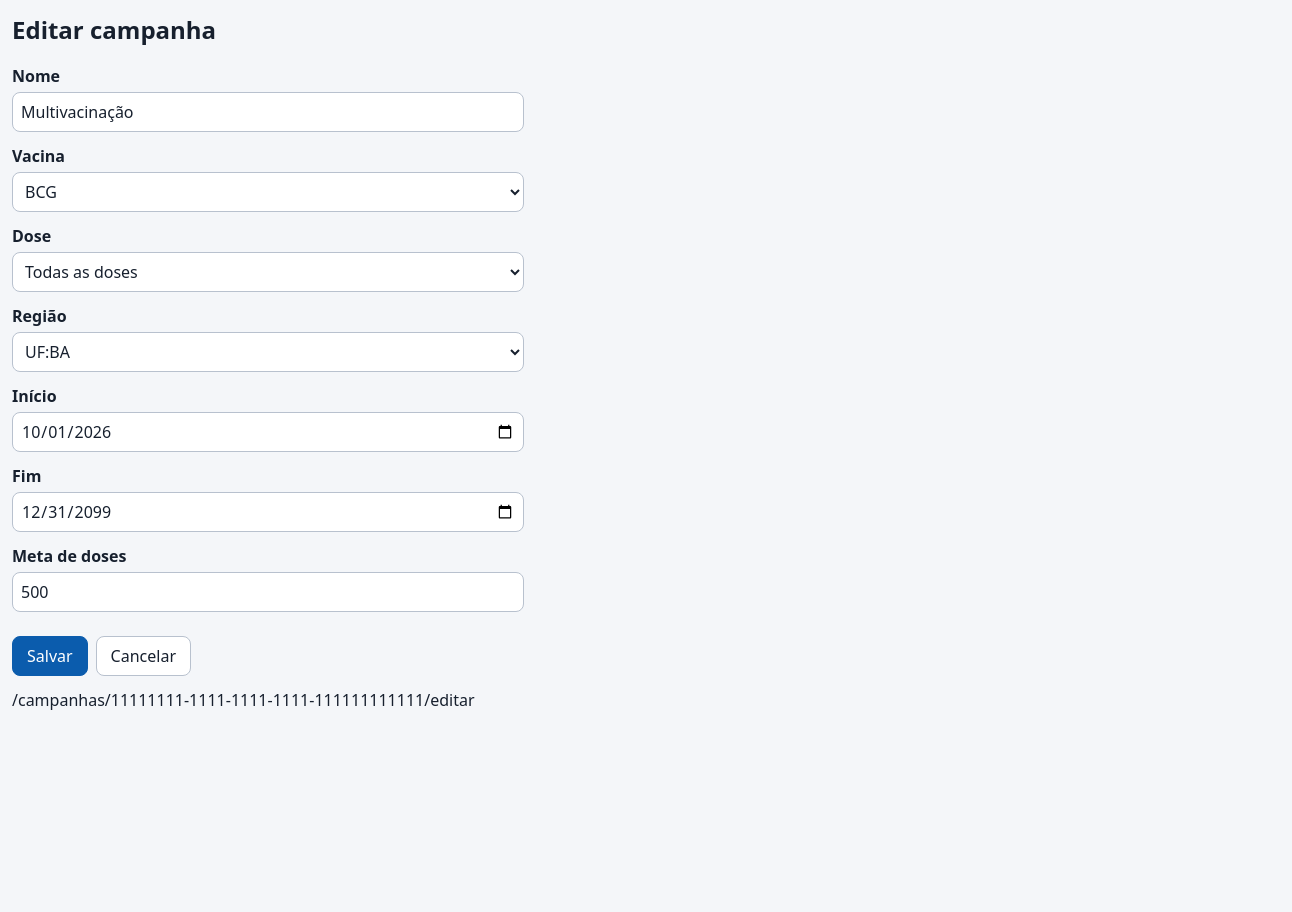
Test: fresh versions › the Recarregar button after a 412 resets the form to the fresh version
In the field labelled "Nome": (268, 112) [12,92,524,132], type " 2"
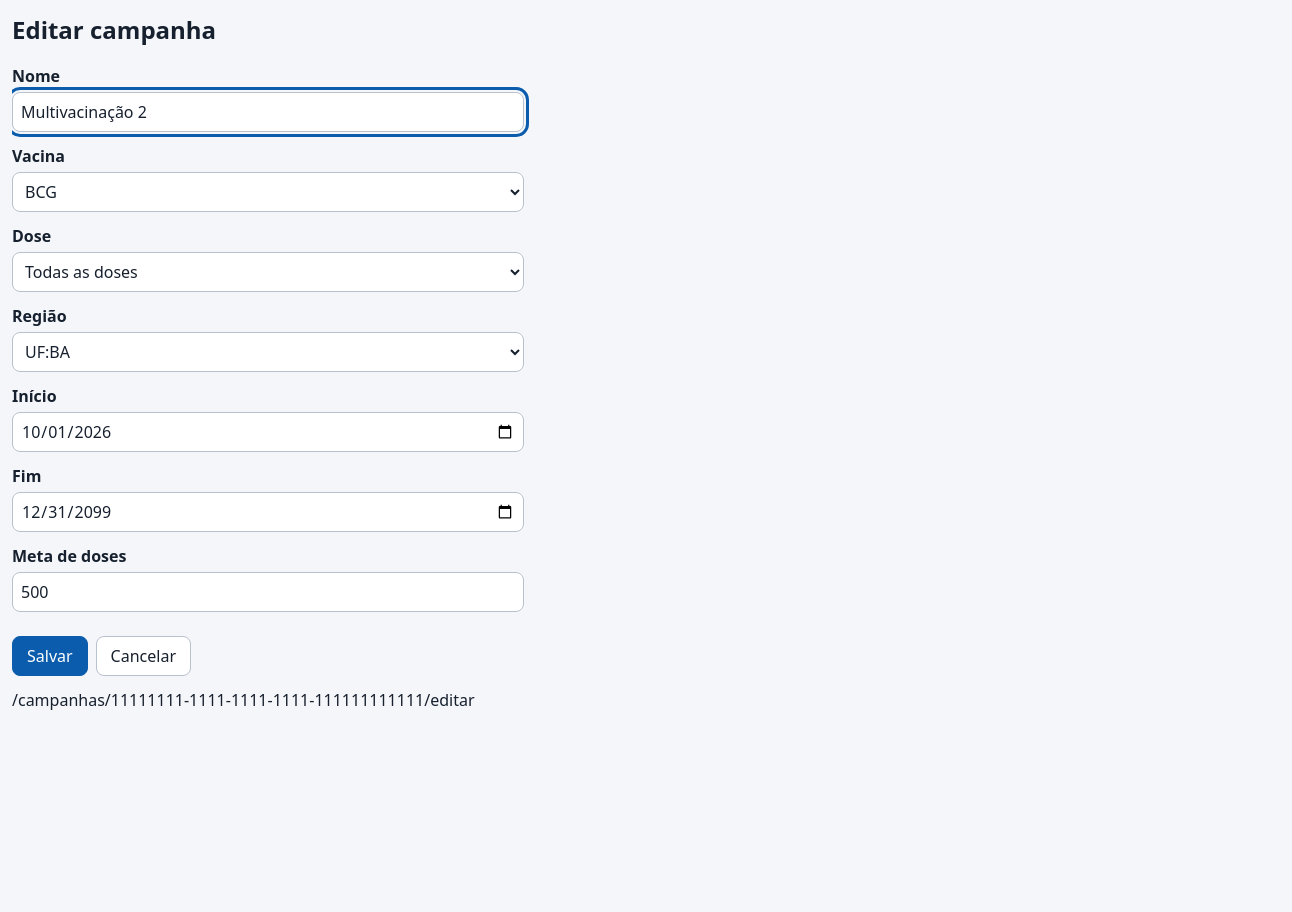
Click the button "Salvar": (50, 656) [12,636,88,676]
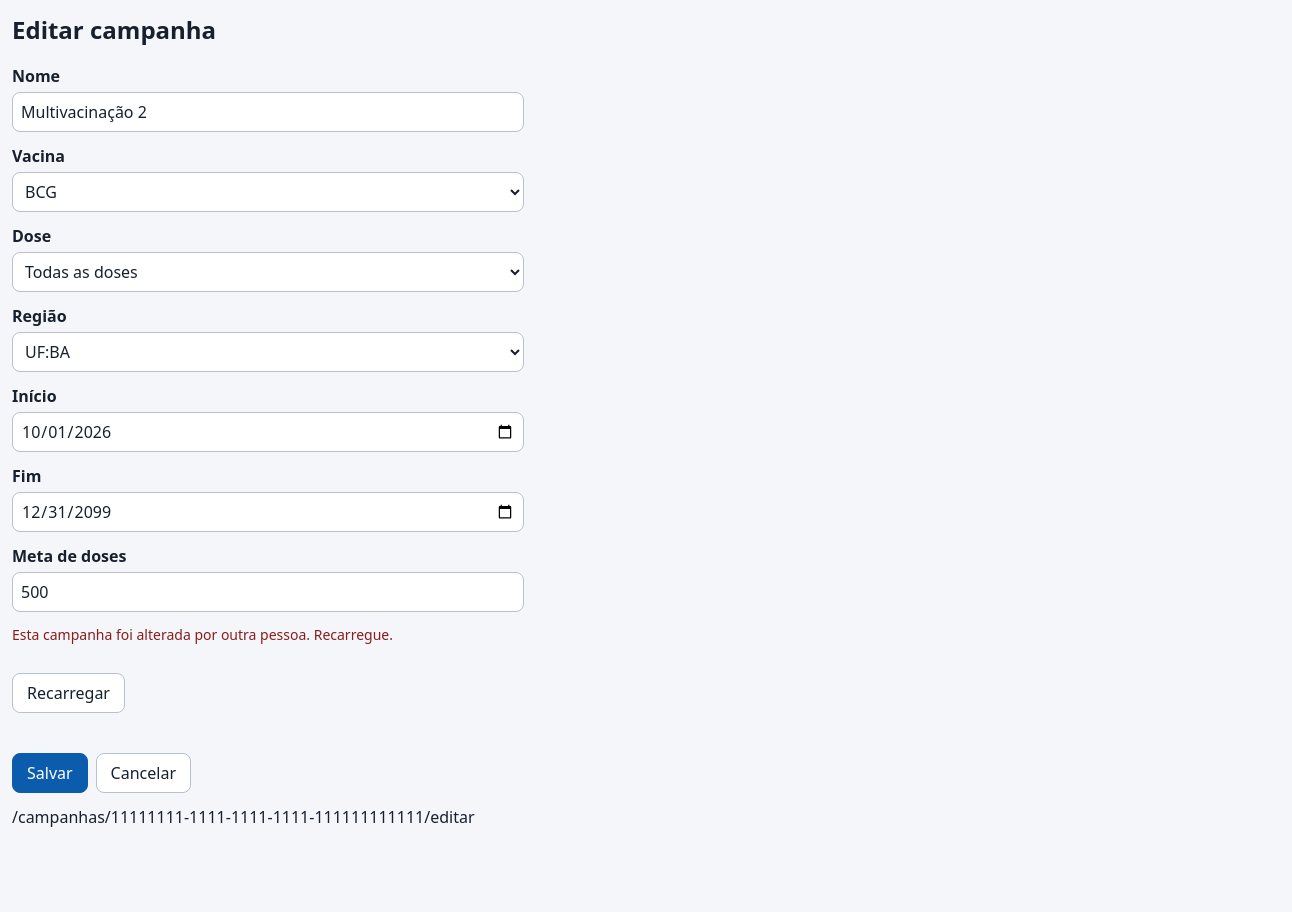
Expected: the message reads "Esta campanha foi alterada por outra pessoa. Recarregue.", [12,625,393,644]
Click the button "Recarregar": (68, 693) [12,673,125,713]
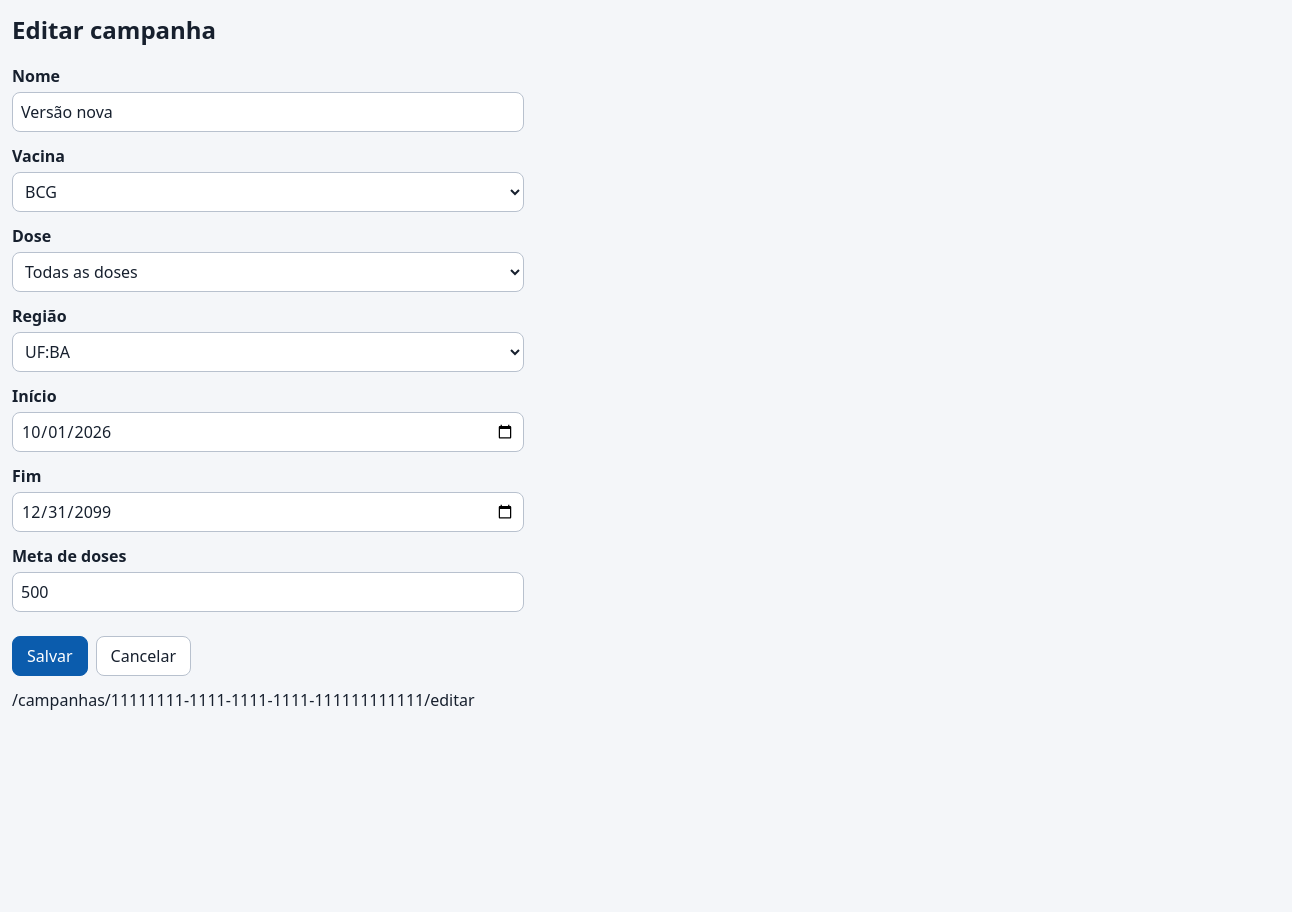
Expected: the field showing "Versão nova" is shown, [12,92,524,132]
Expected: the message "Esta campanha foi alterada por outra pessoa. Recarregue." is gone
Click the button "Salvar": (50, 656) [12,636,88,676]
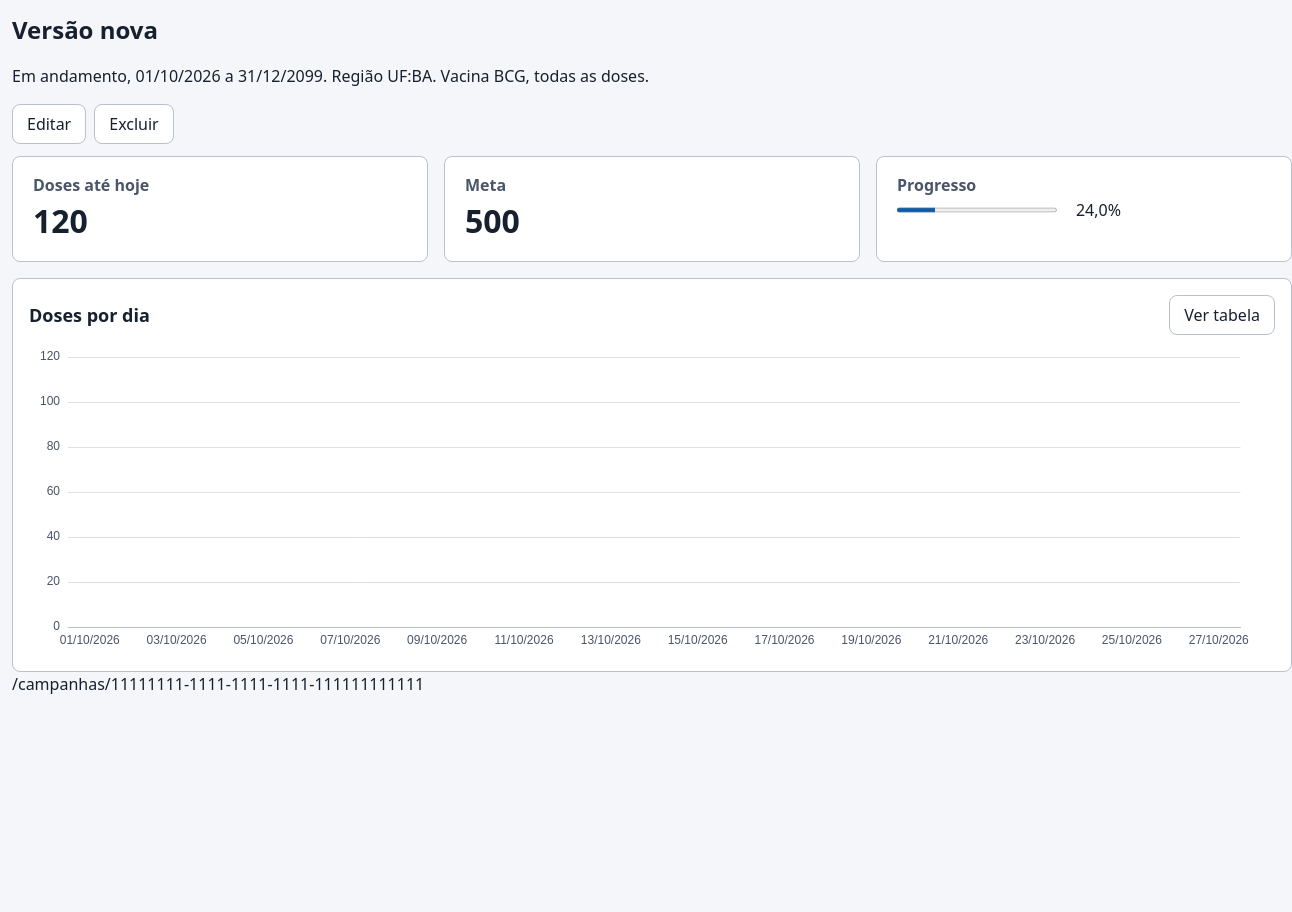
Expected: the text "Doses até hoje" is shown, [33,174,149,196]
